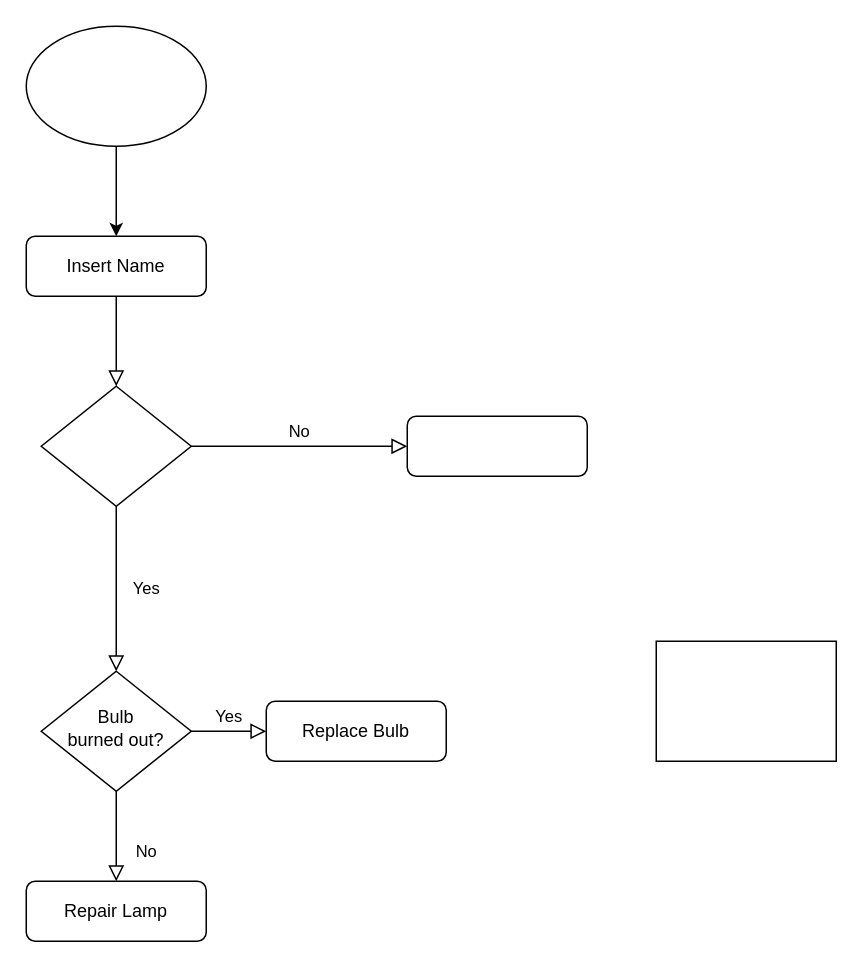
Image size: 863x968. Some labels were removed from this diagram. Here are the shapes that lost their labels. From the top down, the box of each, then its label:
(25, 25, 206, 146): START
(40, 385, 191, 506): Selected a Course?
